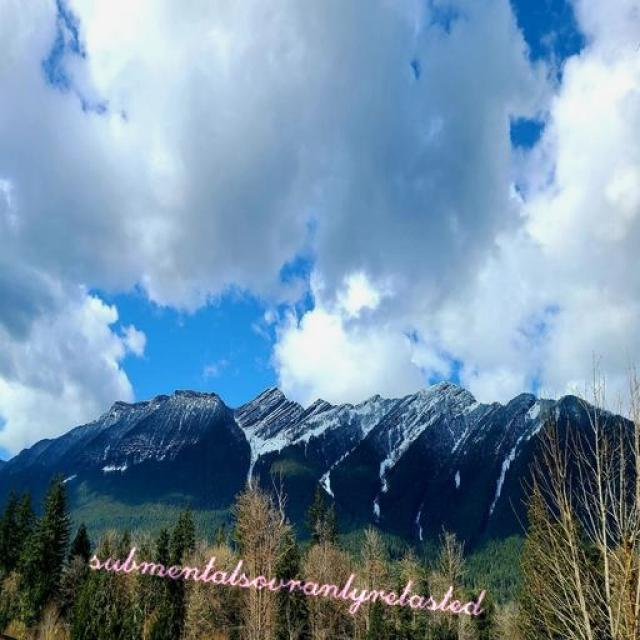watermark: (81, 540, 506, 621)
